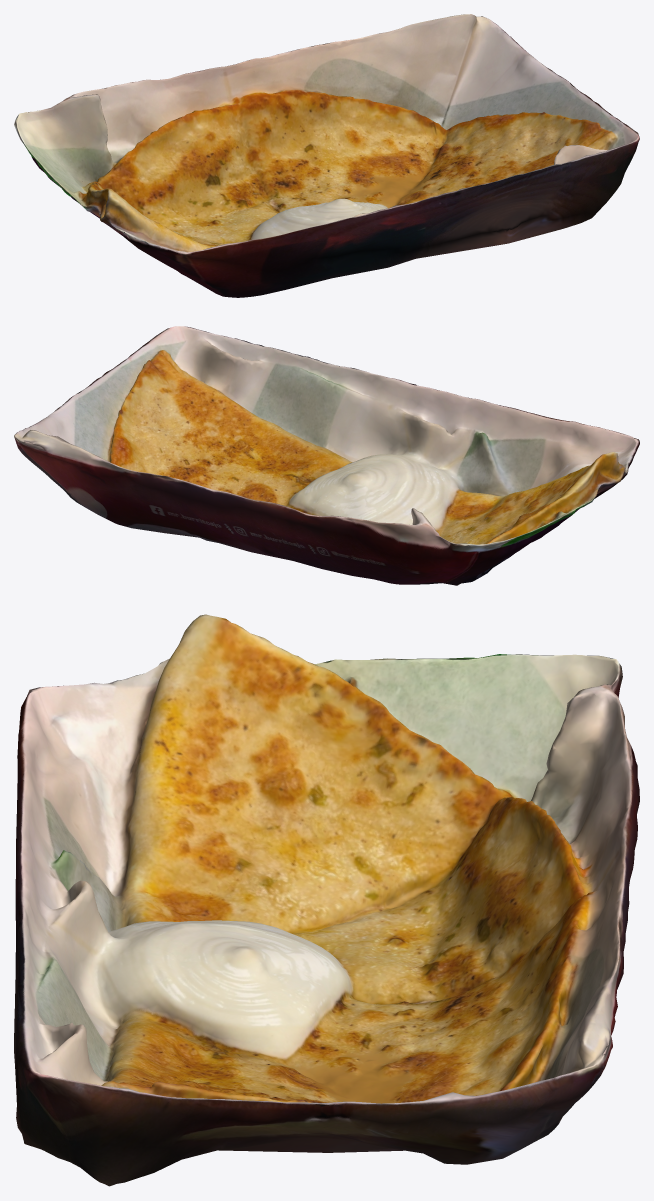
The model's file is Garlic_Tortilla(Sides_Category)_1757009382662.glb.
3 renders of one model, top to bottom at view 1: azimuth 30°, elevation 25°; view 2: azimuth 150°, elevation 25°; view 3: azimuth 270°, elevation 25°, orthographic. The views are drawn at different scales.
Visible parts, largest first — view 1: 3DModel; view 2: 3DModel; view 3: 3DModel.
Boxes of the visible parts, left/top/right/bottom form: 3DModel: left=14, top=14, right=639, bottom=297; 3DModel: left=14, top=326, right=639, bottom=585; 3DModel: left=14, top=614, right=639, bottom=1186.
Size of the model in its own units: 28.05 by 6.69 by 17.12.
1 material, 1 textured.
